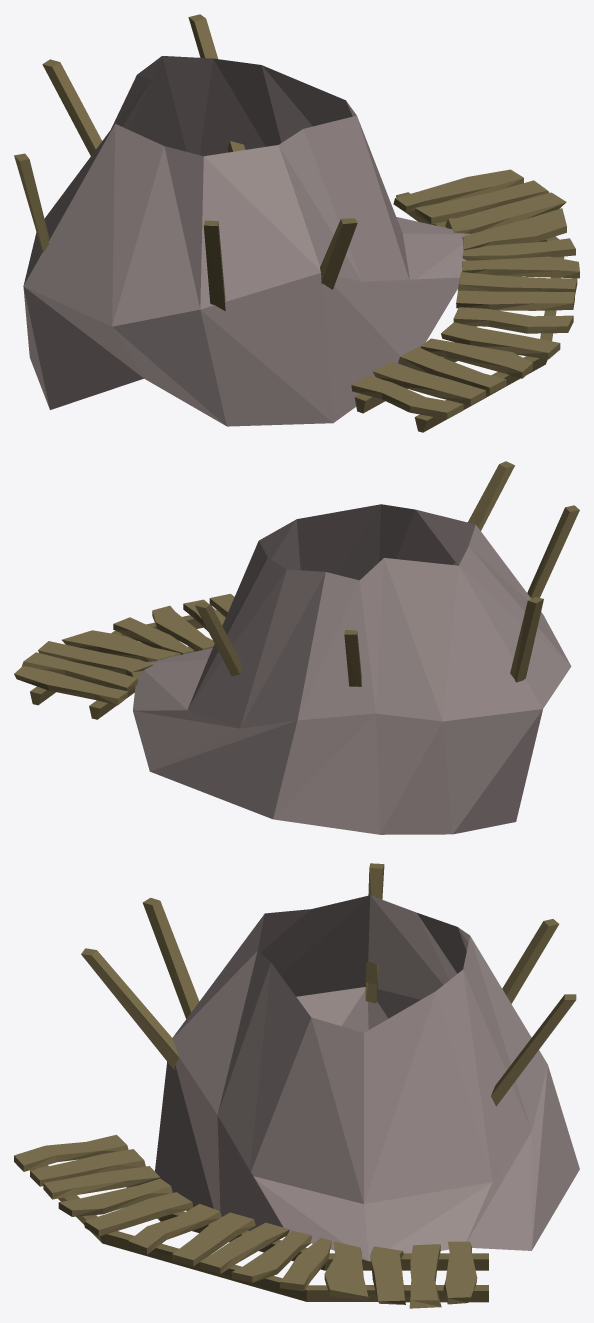
Rendered from obj_greatrunestone_mid_0.obj.
The picture shows the model from 3 angles, top to bottom: view 1: azimuth 30°, elevation 25°; view 2: azimuth 150°, elevation 25°; view 3: azimuth 270°, elevation 25°; orthographic projection. The views are drawn at different scales.
Size of the model in its own units: 5.47 by 2.67 by 4.95.
